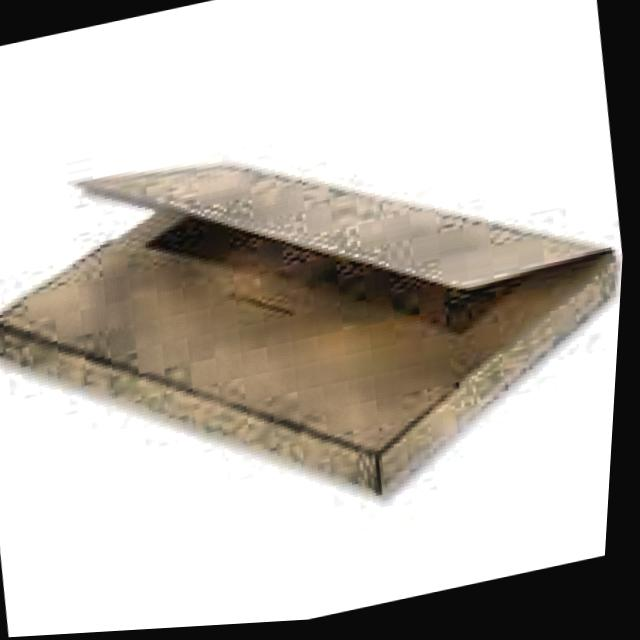Cardbox: (0, 48, 636, 602)
